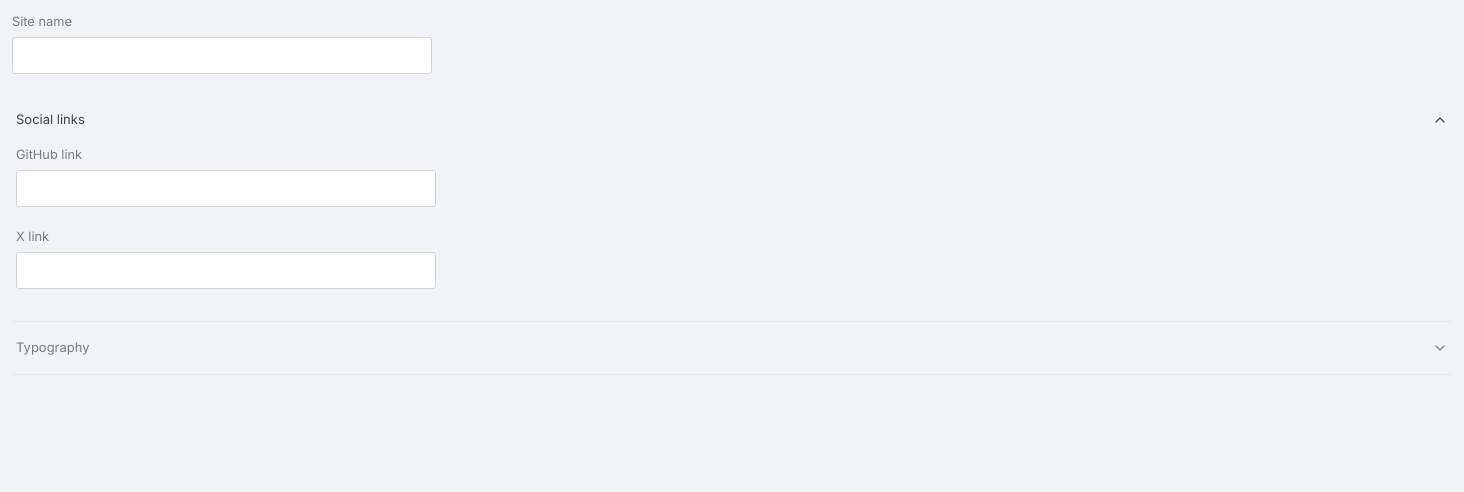
Test: SectionSettingsForm › puts fields with a "group" in accordions: ungrouped first, groups in schema order, the first open
The image size is (1464, 492).
expect the field labelled "Site name" is shown: met, box [12, 37, 432, 74]
expect the field labelled "GitHub link" is shown: met, box [16, 170, 436, 208]
Click the button "Typography" at (53, 347), box [12, 322, 1452, 374]
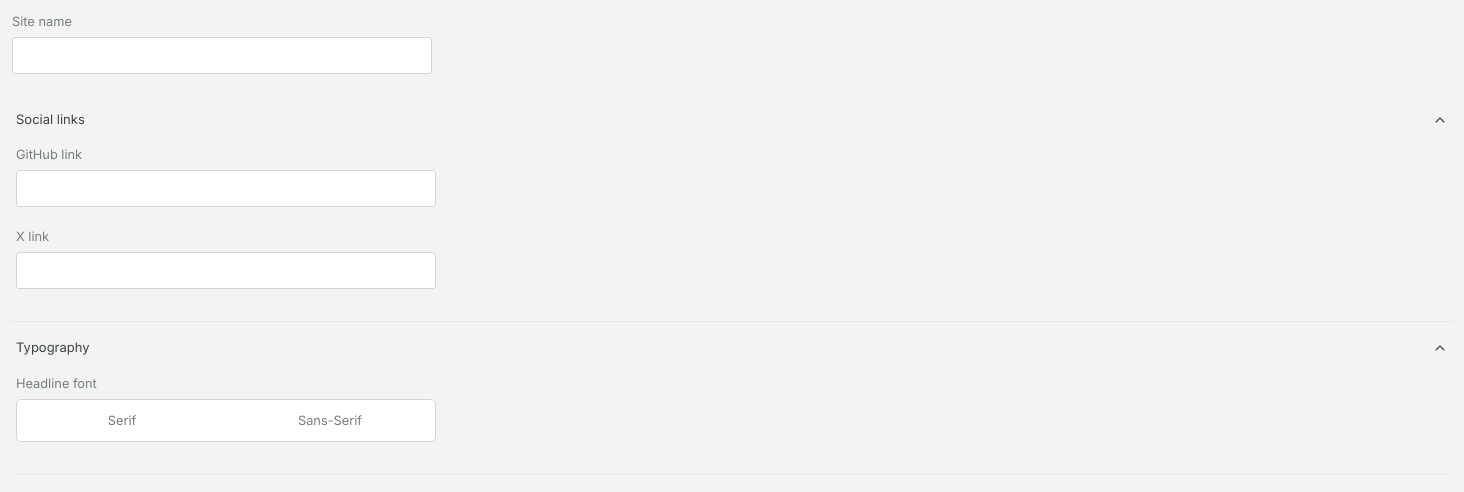
expect the element named "Headline font" is shown: met, box [16, 399, 436, 442]
Click the button "Social links" at (50, 119), box [12, 94, 1452, 146]
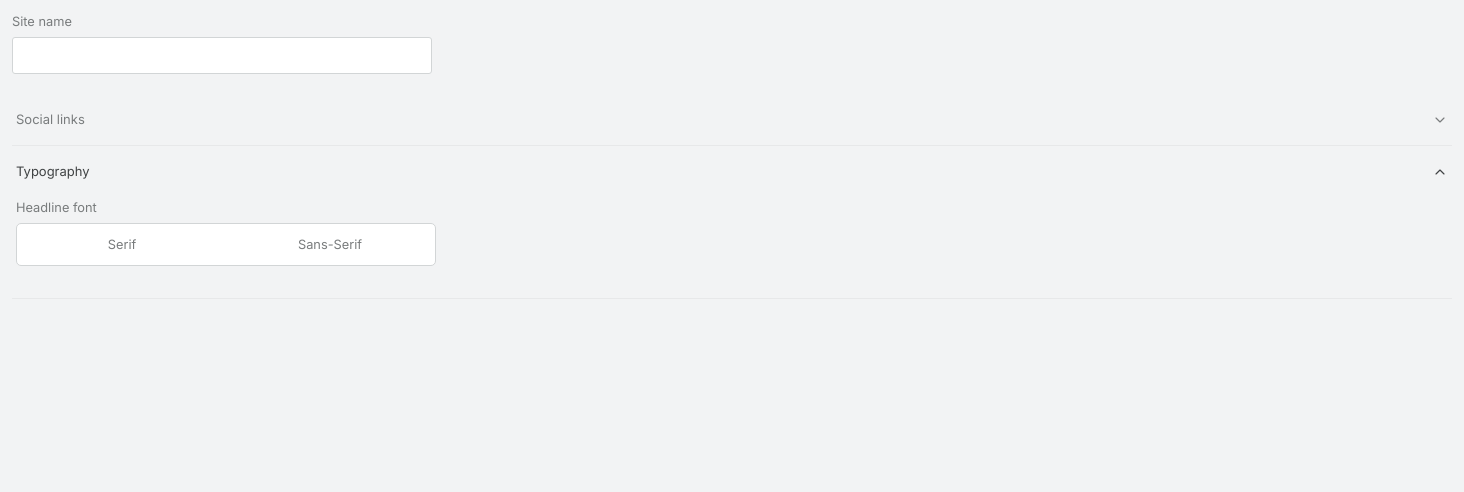
expect the text labelled "GitHub link" is gone: met
